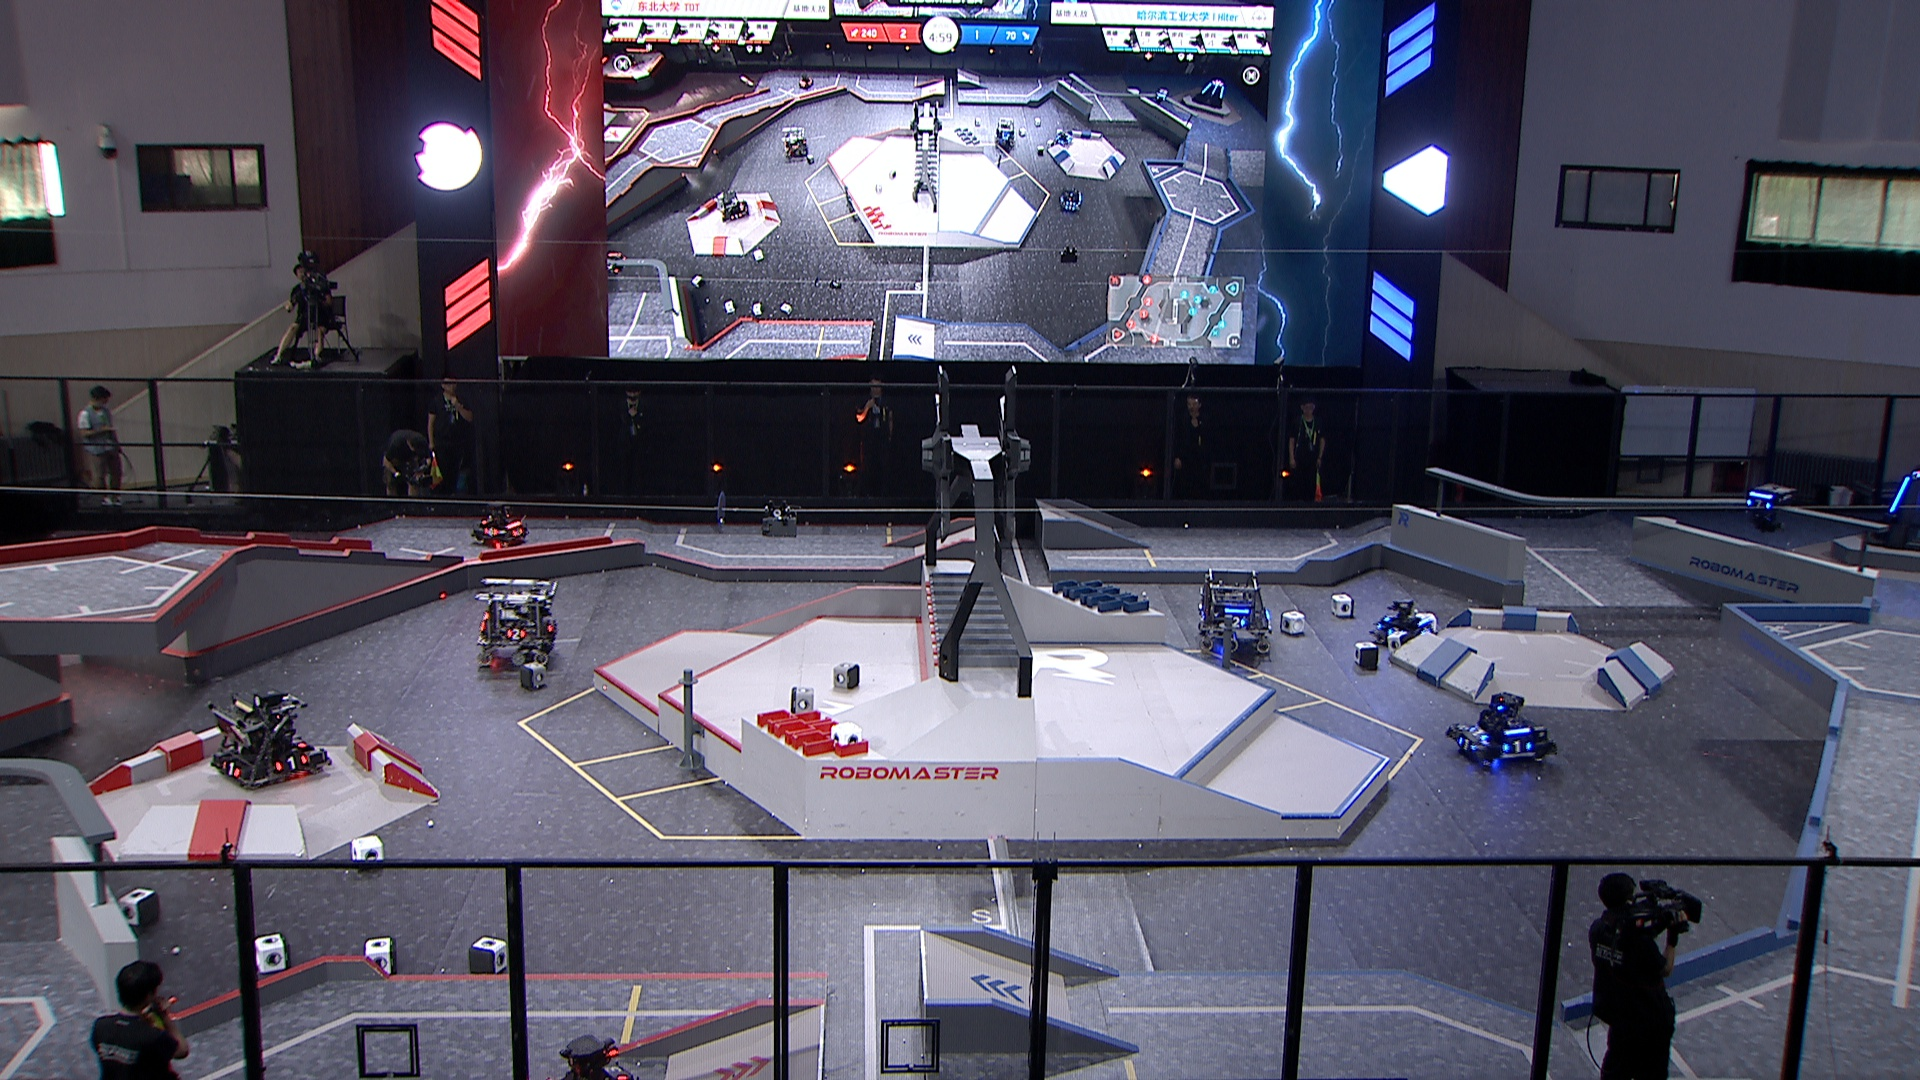armor: (273, 752, 309, 774), (1888, 476, 1909, 513), (1503, 740, 1534, 756), (604, 1062, 626, 1080), (218, 760, 243, 775), (1458, 733, 1480, 752), (1470, 725, 1490, 744), (1385, 626, 1404, 644), (504, 626, 526, 641), (286, 732, 309, 746), (1746, 498, 1771, 510), (1224, 616, 1244, 629), (545, 617, 556, 636), (512, 527, 526, 537), (484, 527, 498, 535)
base: (1865, 463, 1920, 556)
car: (204, 687, 332, 789), (469, 570, 560, 674), (1447, 688, 1557, 767), (1196, 564, 1275, 654), (1371, 597, 1448, 655), (556, 1031, 641, 1080), (468, 498, 529, 550)
ignore: (712, 187, 749, 223), (778, 127, 814, 162), (1189, 74, 1228, 107), (992, 115, 1017, 150), (1058, 185, 1084, 215), (600, 251, 629, 277), (795, 71, 814, 90), (1054, 128, 1073, 145), (1153, 86, 1168, 107)
watcher: (1741, 475, 1793, 537)
